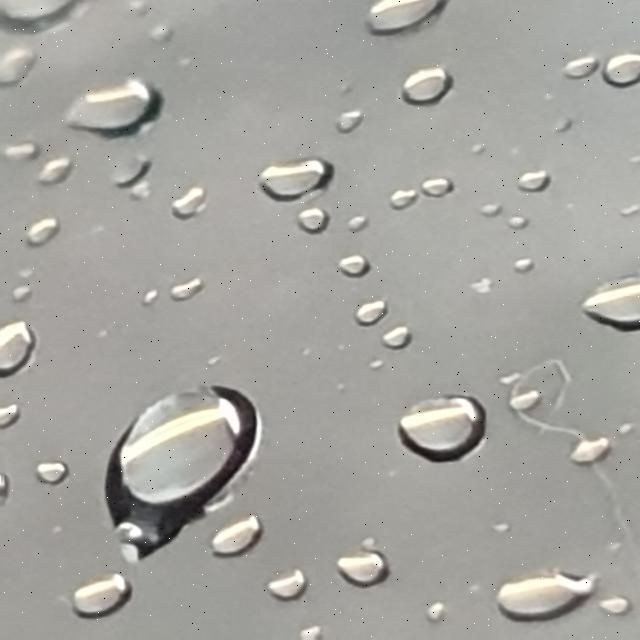raindrop: (100, 381, 258, 555), (385, 393, 483, 472), (244, 153, 374, 212), (55, 76, 168, 136), (194, 507, 302, 561), (492, 568, 600, 618), (97, 144, 178, 209), (581, 272, 640, 350), (399, 61, 492, 108), (242, 555, 318, 605), (565, 406, 628, 466), (0, 0, 99, 37), (362, 0, 449, 40), (152, 187, 226, 234), (500, 160, 591, 196), (164, 268, 222, 324), (61, 570, 138, 609), (325, 546, 396, 588), (0, 313, 41, 384), (13, 203, 57, 263), (598, 32, 640, 94), (0, 395, 45, 444), (556, 47, 614, 85), (372, 316, 434, 351), (0, 48, 39, 103), (38, 142, 76, 194), (497, 233, 538, 280), (331, 294, 386, 327), (335, 202, 393, 233), (325, 250, 386, 278), (0, 132, 37, 174), (406, 174, 464, 200), (290, 203, 340, 232), (327, 104, 381, 130), (130, 277, 168, 312), (384, 185, 418, 218), (591, 593, 634, 618), (28, 456, 65, 484), (0, 281, 37, 309), (468, 195, 502, 218), (508, 210, 542, 233)
